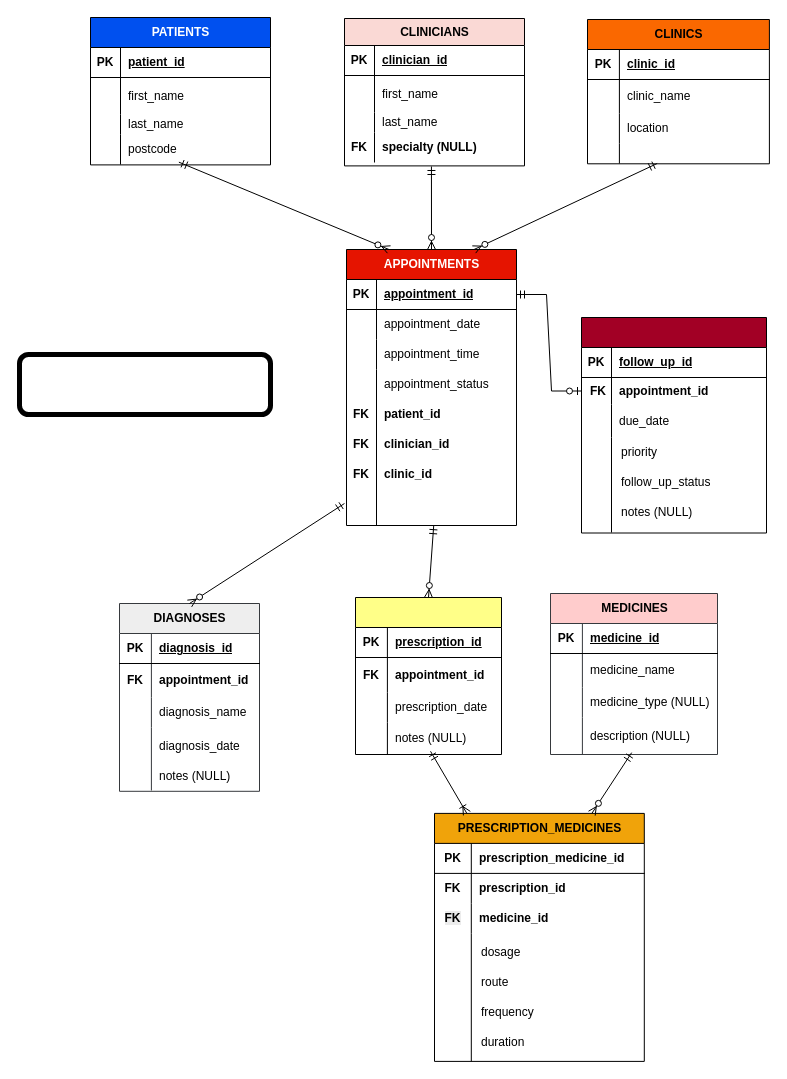
Some shapes in this 787 by 1079 pixel diagram are drawn without their labels. The box of each missing label's shape, as (x1, y1, x2, y2) in pixels:
FOLLOW_UP_PLANS: (580, 316, 766, 533)
Logical ERD model: (16, 352, 272, 416)
PRESCRIPTIONS: (354, 596, 502, 754)
